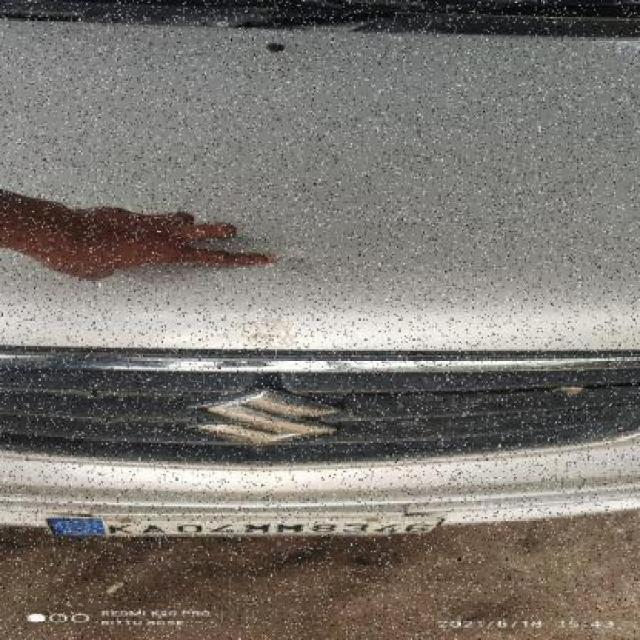bonnet-dent: (3, 17, 639, 393)
